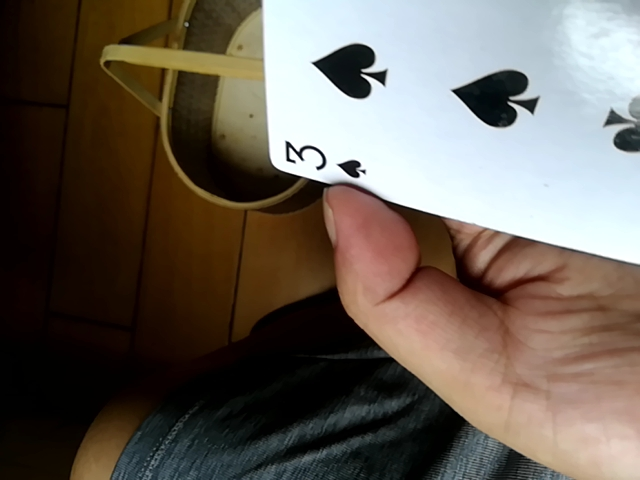ht 3: (253, 0, 638, 283)
